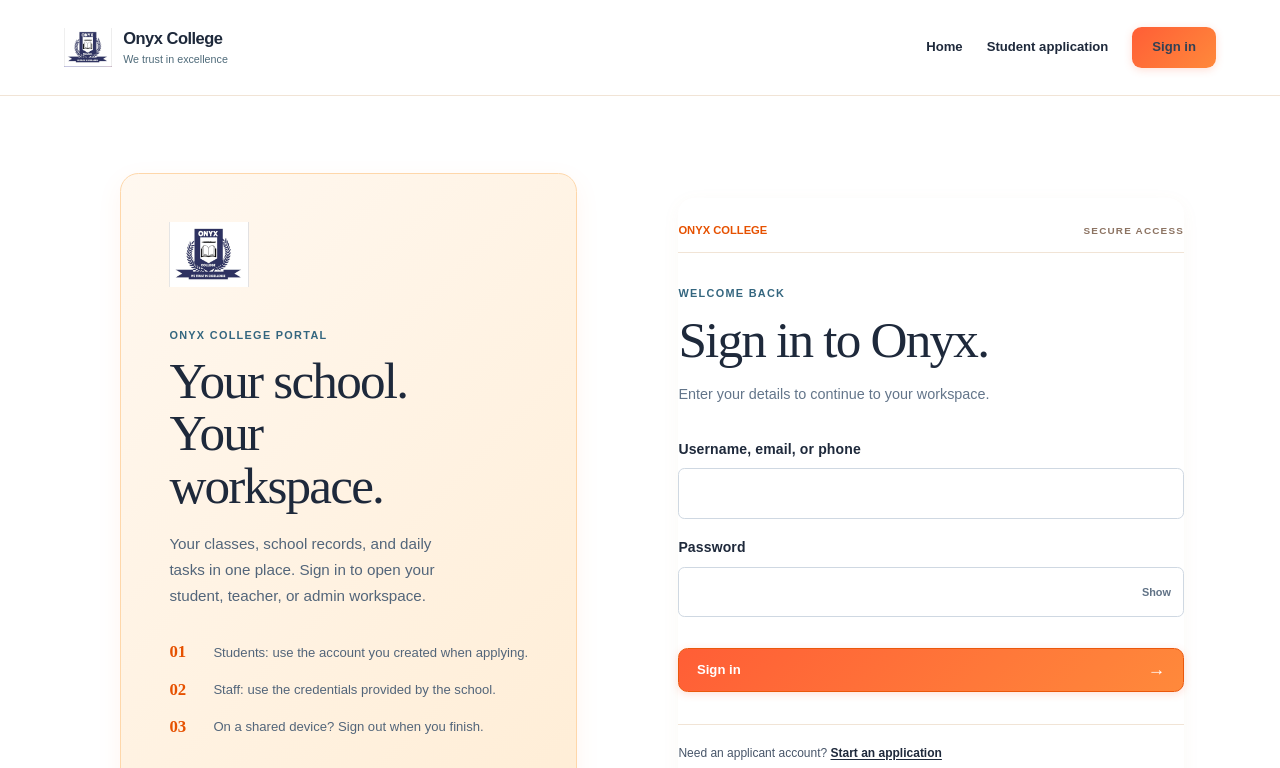
Scenario: browser authentication lifecycle › routes a temporary-password login directly to forced password change
The width and height of the screenshot is (1280, 768).
In the field labelled "Username, email, or phone": x=931, y=494 [678,468,1184,519], type "super.admin"
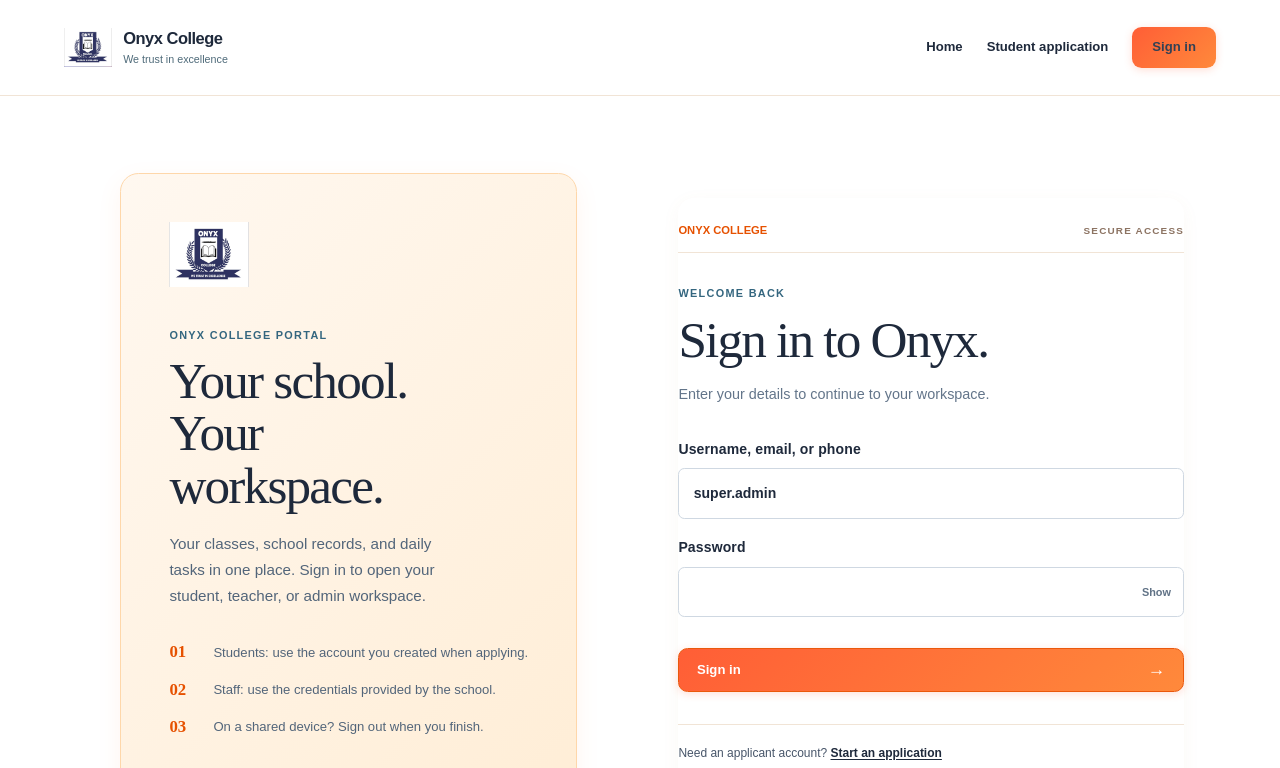
In the password field labelled "Password": x=931, y=592 [678,567,1184,617], type "temporary-secret"
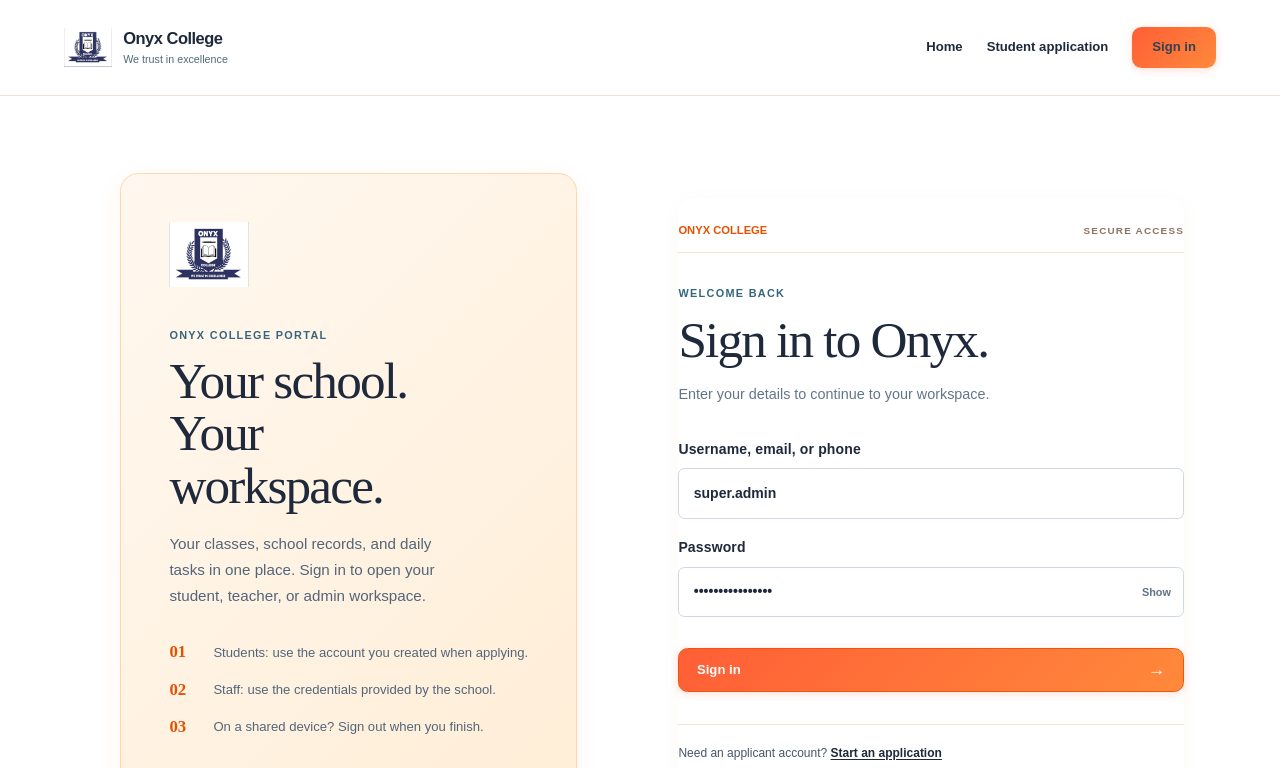
Click the button "Sign in →": x=719, y=670 [678,648,1184,692]
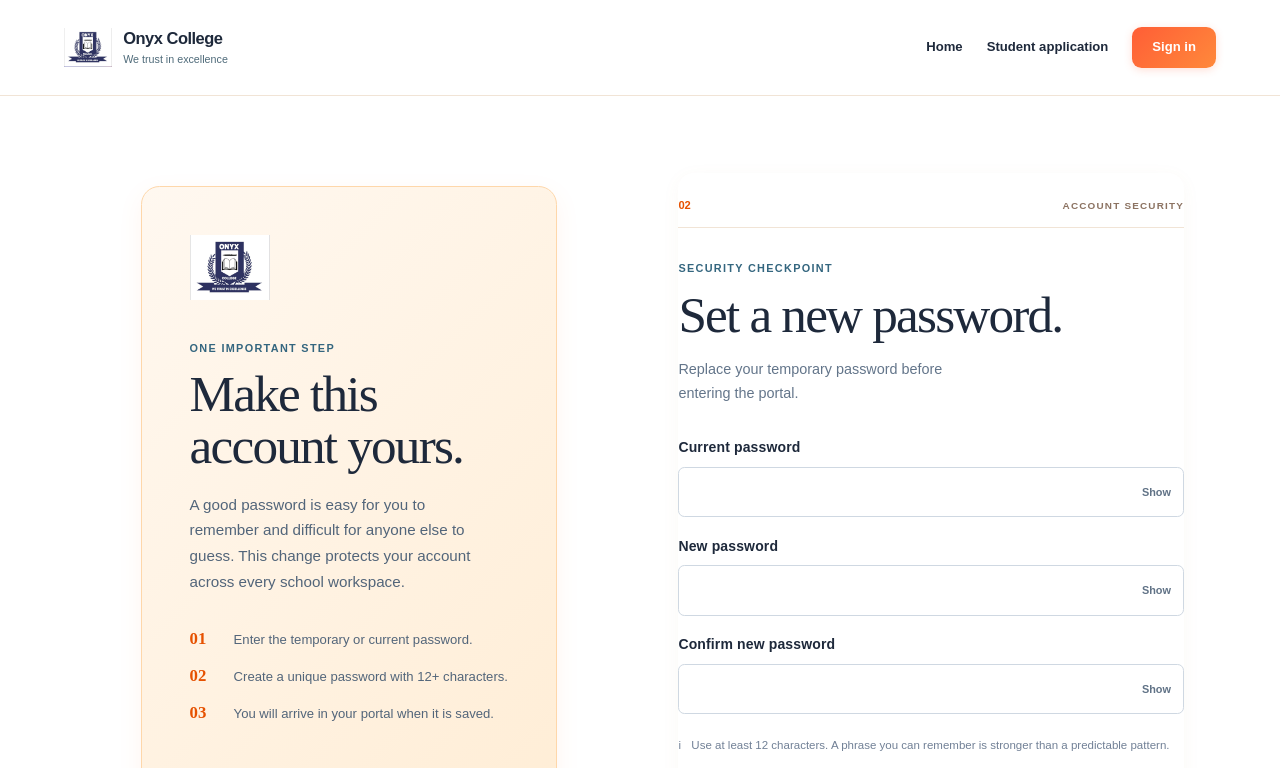
Now the heading "Set a new password." is shown, box [678,288,1062,342]
